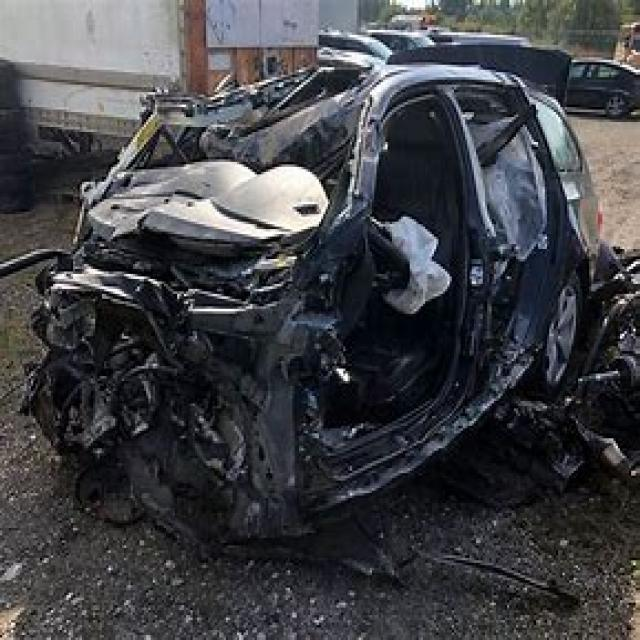Accident: (30, 22, 636, 560)
